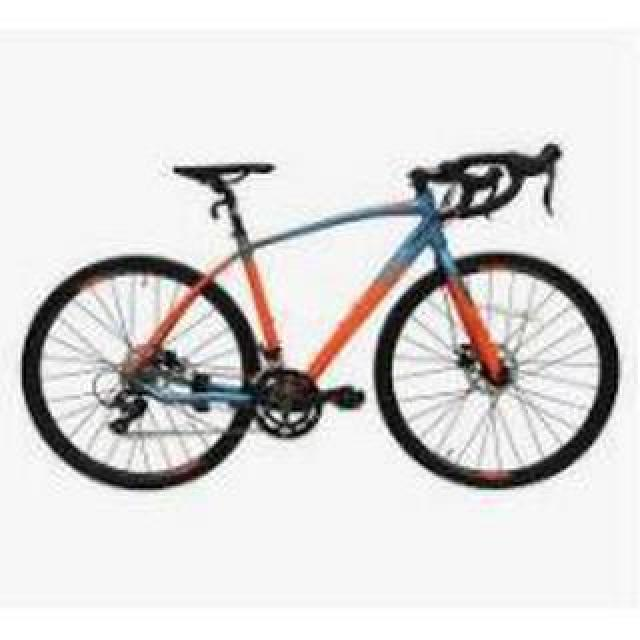Person: (19, 141, 621, 495)
